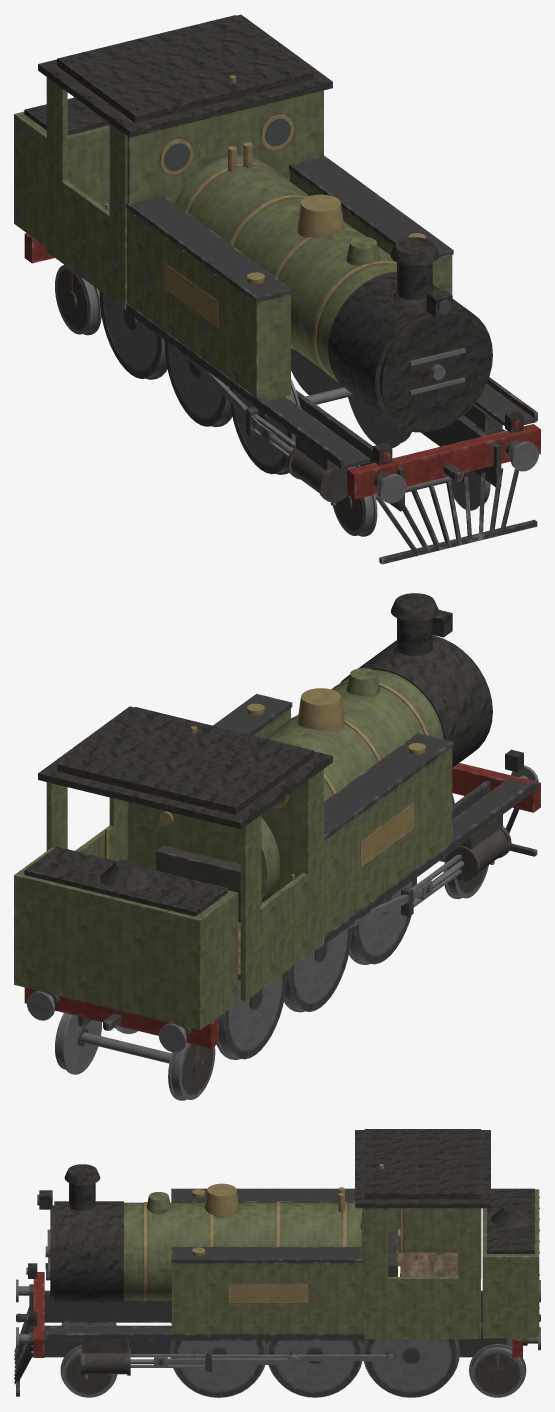
File: feTrainLocoCar_HD.fbx
3 views of the same model, one above another, from view 1: azimuth 30°, elevation 25°; view 2: azimuth 150°, elevation 25°; view 3: azimuth 270°, elevation 25° (orthographic). The views are drawn at different scales.
Parts seen in each view (by area): view 1: feTrainLocoCar_Body, FeSpin_r0.70_Drv2, FeSpin_r0.70_Drv1, FeSpin_r0.70_Drv3, FeSpin_r0.40_Pony, FeSpin_r0.40_Trail, FeTrainMain_2; view 2: feTrainLocoCar_Body, FeSpin_r0.40_Trail, FeSpin_r0.70_Drv3, FeSpin_r0.70_Drv2, FeSpin_r0.70_Drv1, FeSpin_r0.40_Pony, FeTrainMain_2; view 3: feTrainLocoCar_Body, FeSpin_r0.70_Drv3, FeSpin_r0.70_Drv2, FeSpin_r0.70_Drv1, FeSpin_r0.40_Trail, FeSpin_r0.40_Pony, FeTrainCouple_1, FeTrainMain_1.
Part boxes in pixels (box(x1,y1,x2,y2)): feTrainLocoCar_Body: box(14, 14, 540, 564); FeSpin_r0.70_Drv2: box(164, 340, 343, 427); FeSpin_r0.70_Drv1: box(229, 379, 411, 474); FeSpin_r0.70_Drv3: box(99, 291, 167, 379); FeSpin_r0.40_Pony: box(333, 465, 490, 536); FeSpin_r0.40_Trail: box(55, 264, 101, 335); FeTrainMain_2: box(174, 347, 261, 432); feTrainLocoCar_Body: box(14, 593, 540, 1052); FeSpin_r0.40_Trail: box(55, 1013, 215, 1100); FeSpin_r0.70_Drv3: box(114, 971, 286, 1059); FeSpin_r0.70_Drv2: box(284, 927, 351, 1012); FeSpin_r0.70_Drv1: box(349, 877, 416, 964); FeSpin_r0.40_Pony: box(440, 857, 488, 899); FeTrainMain_2: box(336, 888, 422, 936); feTrainLocoCar_Body: box(14, 1129, 540, 1396); FeSpin_r0.70_Drv3: box(362, 1339, 459, 1397); FeSpin_r0.70_Drv2: box(267, 1340, 362, 1397); FeSpin_r0.70_Drv1: box(170, 1322, 267, 1397); FeSpin_r0.40_Trail: box(469, 1322, 526, 1397); FeSpin_r0.40_Pony: box(60, 1322, 117, 1397); FeTrainCouple_1: box(193, 1353, 394, 1362); FeTrainMain_1: box(167, 1355, 299, 1367).
Size of the model in its own units: 2.62 by 3.64 by 7.93.
2 materials, 1 textured.
